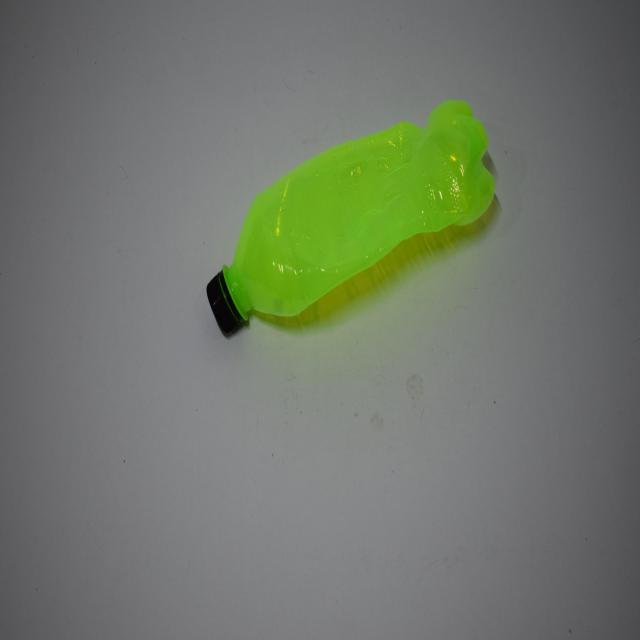bottle: (205, 100, 510, 343)
